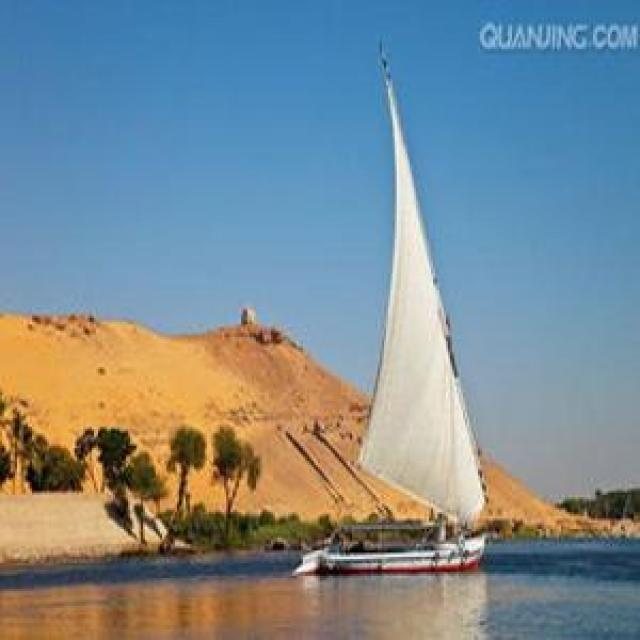sailboat: (299, 32, 497, 594)
